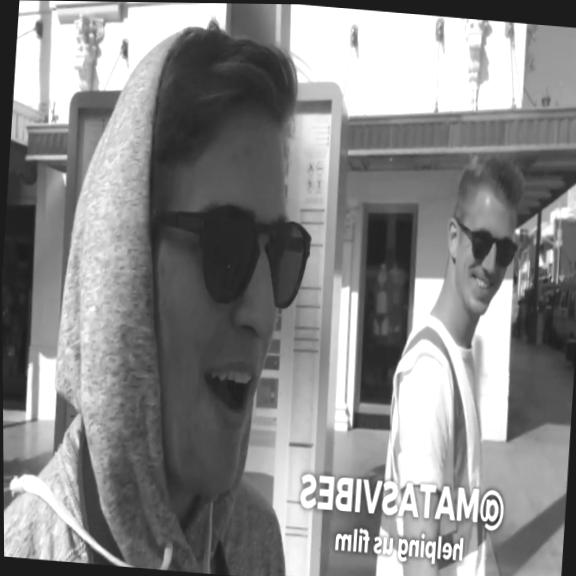safety_vest: (372, 308, 508, 576)
